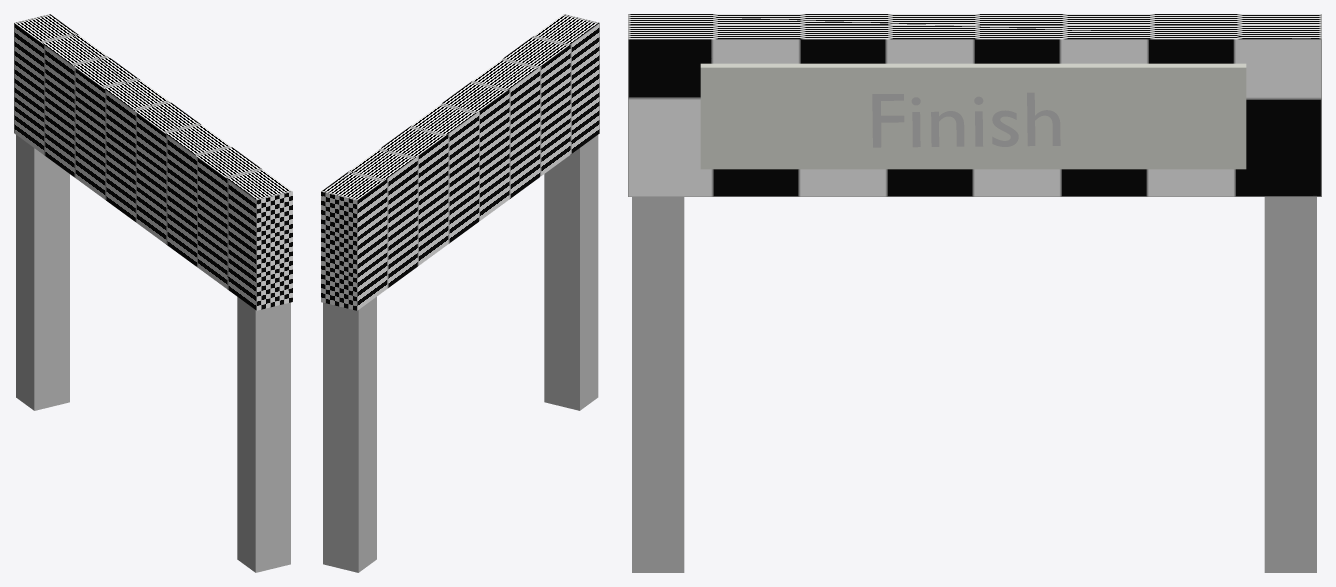
The model's file is FinishLine 1.fbx.
3 views of the same model, side by side, from view 1: azimuth 30°, elevation 25°; view 2: azimuth 150°, elevation 25°; view 3: azimuth 270°, elevation 25° (orthographic). The views are drawn at different scales.
Parts seen in each view (by area): view 1: Cube.001; view 2: Cube.001; view 3: Cube.001, Finish.
Part boxes in pixels (<box>): Cube.001: <box>14,14,292,572</box>; Cube.001: <box>321,14,599,572</box>; Cube.001: <box>628,14,1321,572</box>; Finish: <box>872,92,1060,147</box>.
Size of the model in its own units: 112 by 677 by 797.
